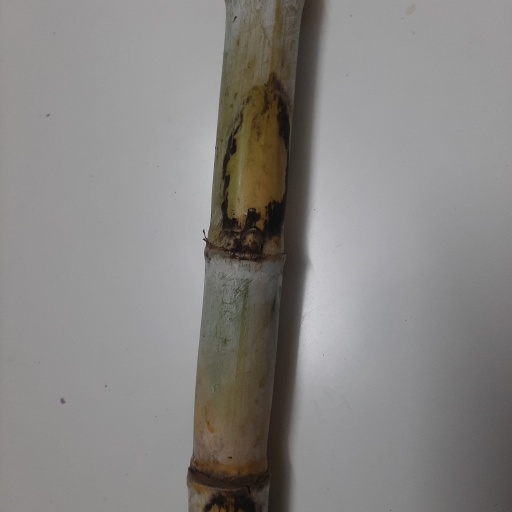Bud: (239, 226, 263, 258)
